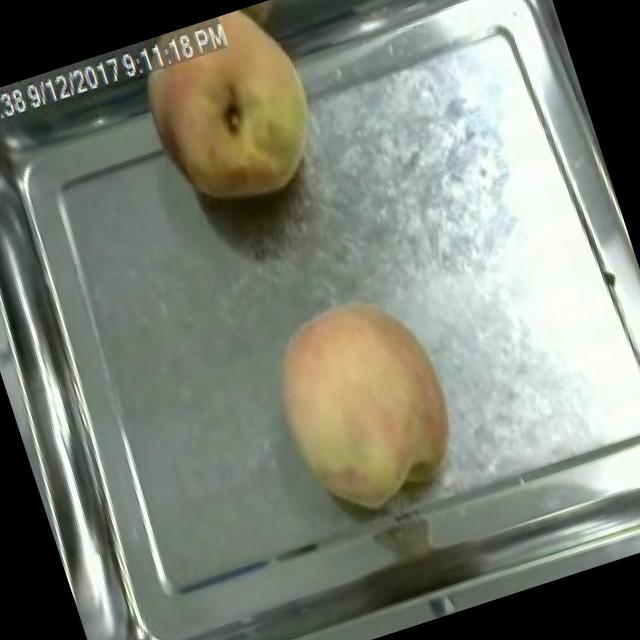Fruit: (245, 274, 484, 536), (118, 0, 343, 230)
